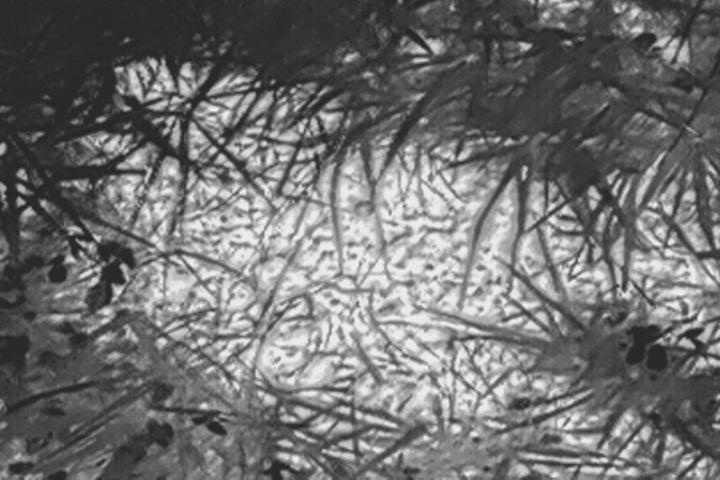landmine: (196, 108, 546, 351)
